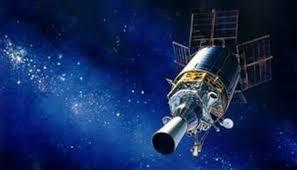antenna: (221, 116, 235, 131)
body: (166, 45, 242, 135)
solar: (181, 43, 244, 96), (239, 34, 277, 92), (188, 6, 240, 42), (170, 39, 191, 76), (229, 90, 251, 104)
thruster: (150, 116, 189, 157)
